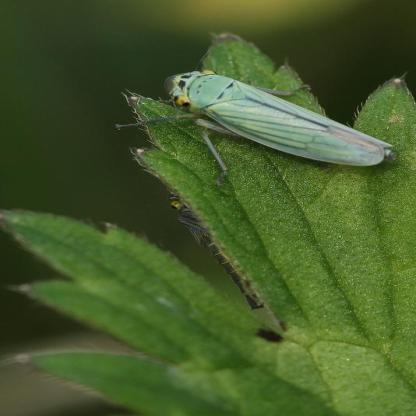Green-Leafhopper: (120, 70, 396, 180)
